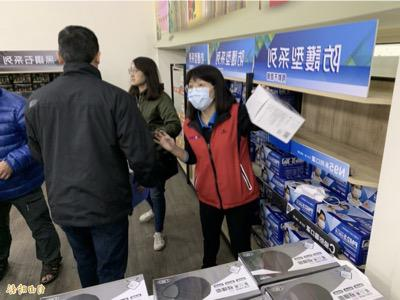with_mask: (185, 79, 215, 110)
without_mask: (127, 66, 144, 85)
